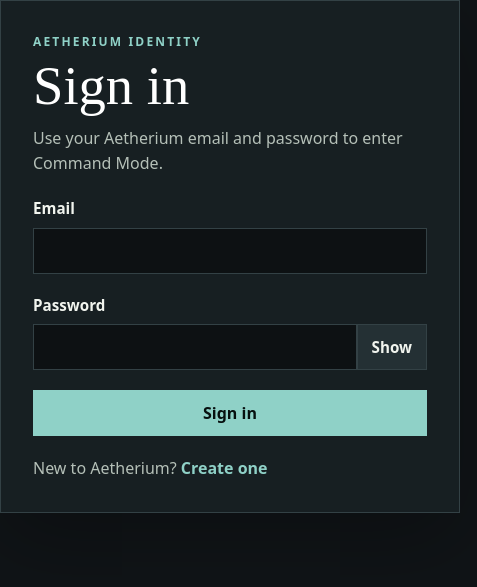
Scenario: auth UI › validates login form fields
This screenshot has width=477, height=587.
Click the button "Sign in".
click(230, 413)  # box [33,390,427,436]
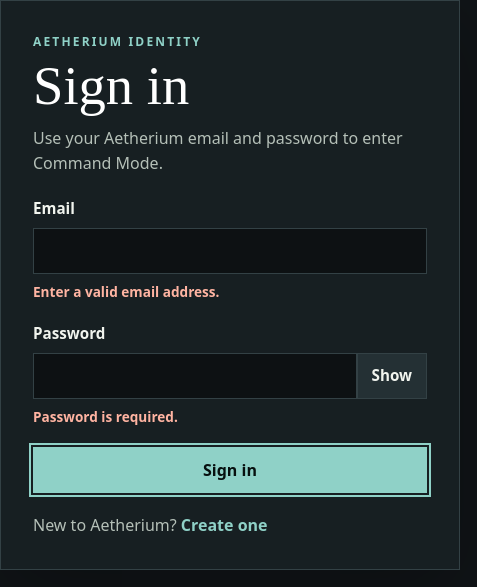
expect the text "Enter a valid email address." is shown: met, box [33,282,220,301]
expect the text "Password is required." is shown: met, box [33,407,178,426]
